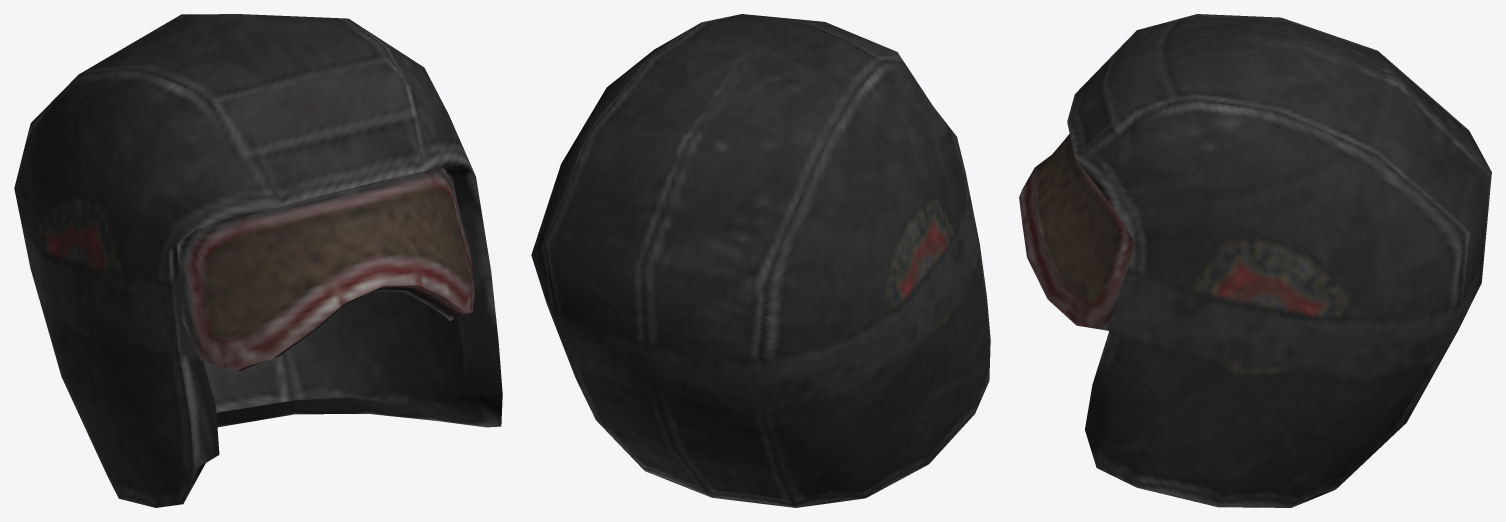
Rendered from Sphere08GlassGround.fbx.
The picture shows the model from 3 angles, left to right: view 1: azimuth 30°, elevation 25°; view 2: azimuth 150°, elevation 25°; view 3: azimuth 270°, elevation 25°; orthographic projection. The views are drawn at different scales.
Parts seen in each view (by area): view 1: Sphere08GlassGround; view 2: Sphere08GlassGround; view 3: Sphere08GlassGround.
Boxes of the visible parts, left/top/right/bottom form: Sphere08GlassGround: left=14, top=14, right=502, bottom=507; Sphere08GlassGround: left=531, top=14, right=990, bottom=507; Sphere08GlassGround: left=1019, top=14, right=1491, bottom=507.
Size of the model in its own units: 0.1407 by 0.1612 by 0.1655.
